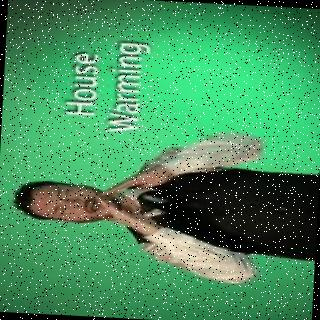House: (86, 156, 175, 226)
